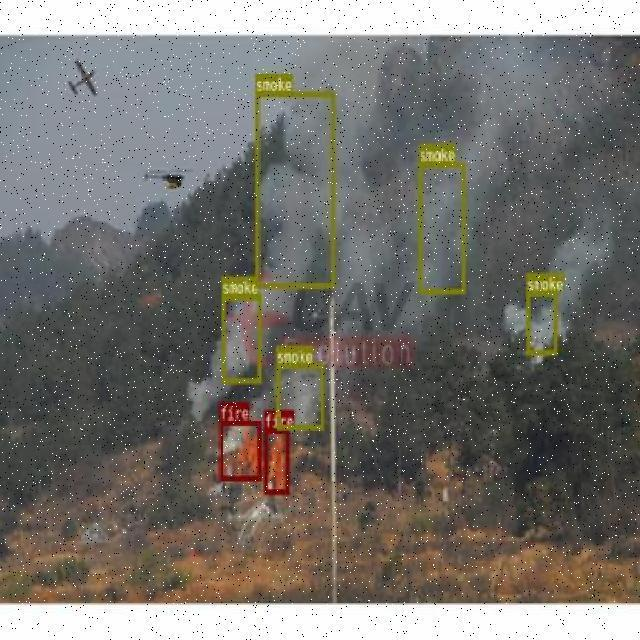Smoke: (258, 27, 331, 223), (221, 288, 261, 377), (418, 193, 466, 262), (276, 362, 322, 430), (525, 291, 556, 354)
